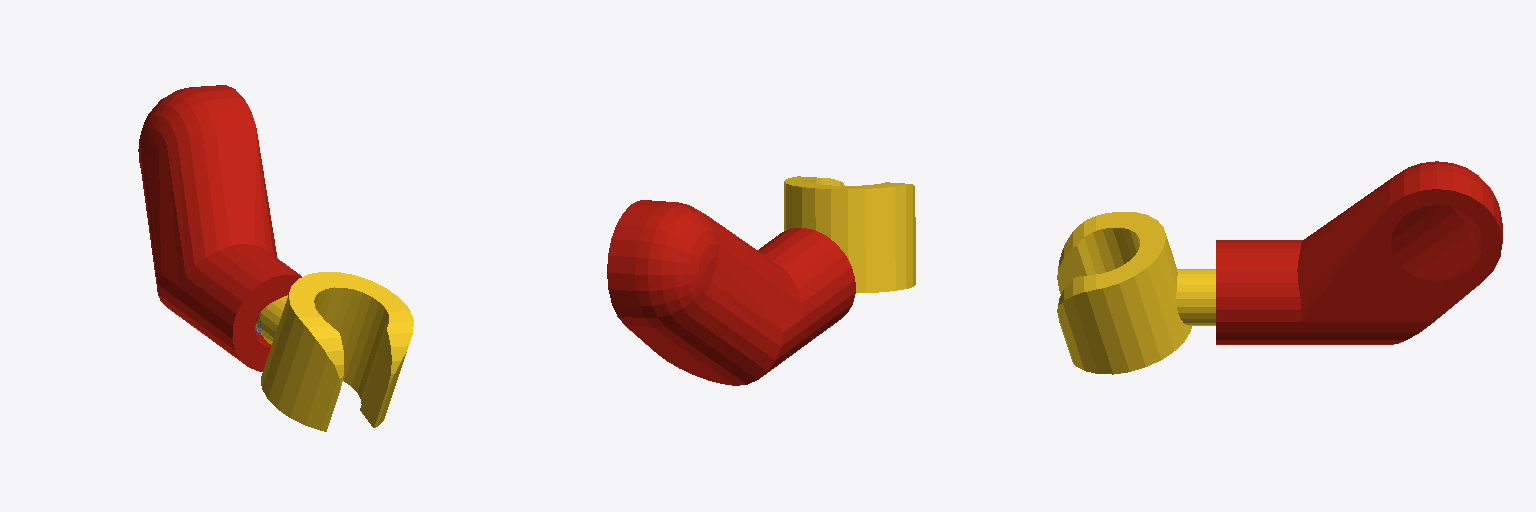
The model's file is BRAZODER.obj.
3 renders of one model, left to right at view 1: azimuth 30°, elevation 25°; view 2: azimuth 150°, elevation 25°; view 3: azimuth 270°, elevation 25°, orthographic.
Parts seen in each view (by area): view 1: BRAZODER_ID52_BLUE, BRAZODER_ID52_lego_yellow; view 2: BRAZODER_ID52_BLUE, BRAZODER_ID52_lego_yellow; view 3: BRAZODER_ID52_BLUE, BRAZODER_ID52_lego_yellow.
Boxes of the visible parts, box(x1,y1,x2,y2) form: BRAZODER_ID52_BLUE: box(138, 85, 301, 371); BRAZODER_ID52_lego_yellow: box(255, 272, 413, 431); BRAZODER_ID52_BLUE: box(607, 200, 855, 385); BRAZODER_ID52_lego_yellow: box(784, 176, 915, 292); BRAZODER_ID52_BLUE: box(1216, 161, 1502, 344); BRAZODER_ID52_lego_yellow: box(1057, 212, 1215, 374).
Bounding box in the file's own units: 0.602 × 0.912 × 1.83.